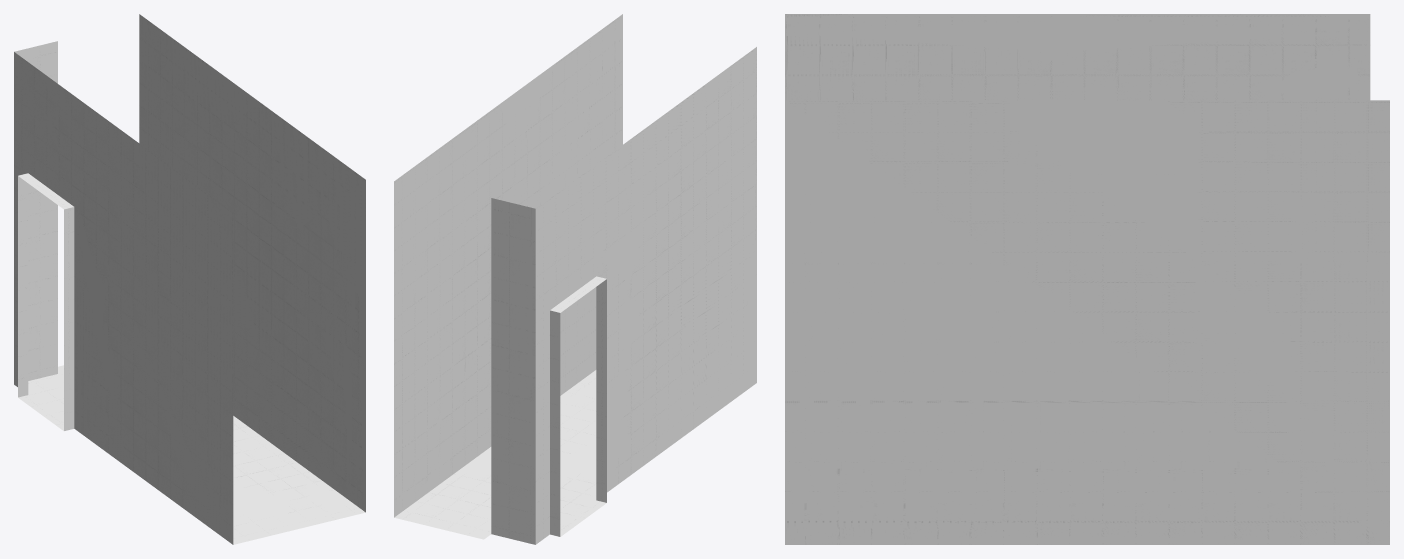
The model's file is CUA004.obj.
The picture shows the model from 3 angles, left to right: view 1: azimuth 30°, elevation 25°; view 2: azimuth 150°, elevation 25°; view 3: azimuth 270°, elevation 25°; orthographic projection. The views are drawn at different scales.
Visible parts, largest first — view 1: Mesh1 CUA04 Model; view 2: Mesh1 CUA04 Model; view 3: Mesh1 CUA04 Model.
Boxes of the visible parts, x1,y1,x2,y2 form: Mesh1 CUA04 Model: (14, 14, 365, 544); Mesh1 CUA04 Model: (394, 14, 756, 544); Mesh1 CUA04 Model: (785, 14, 1389, 544).
Bounding box in the file's own units: 1.36 × 3.02 × 3.72.
2 materials, 1 textured.
